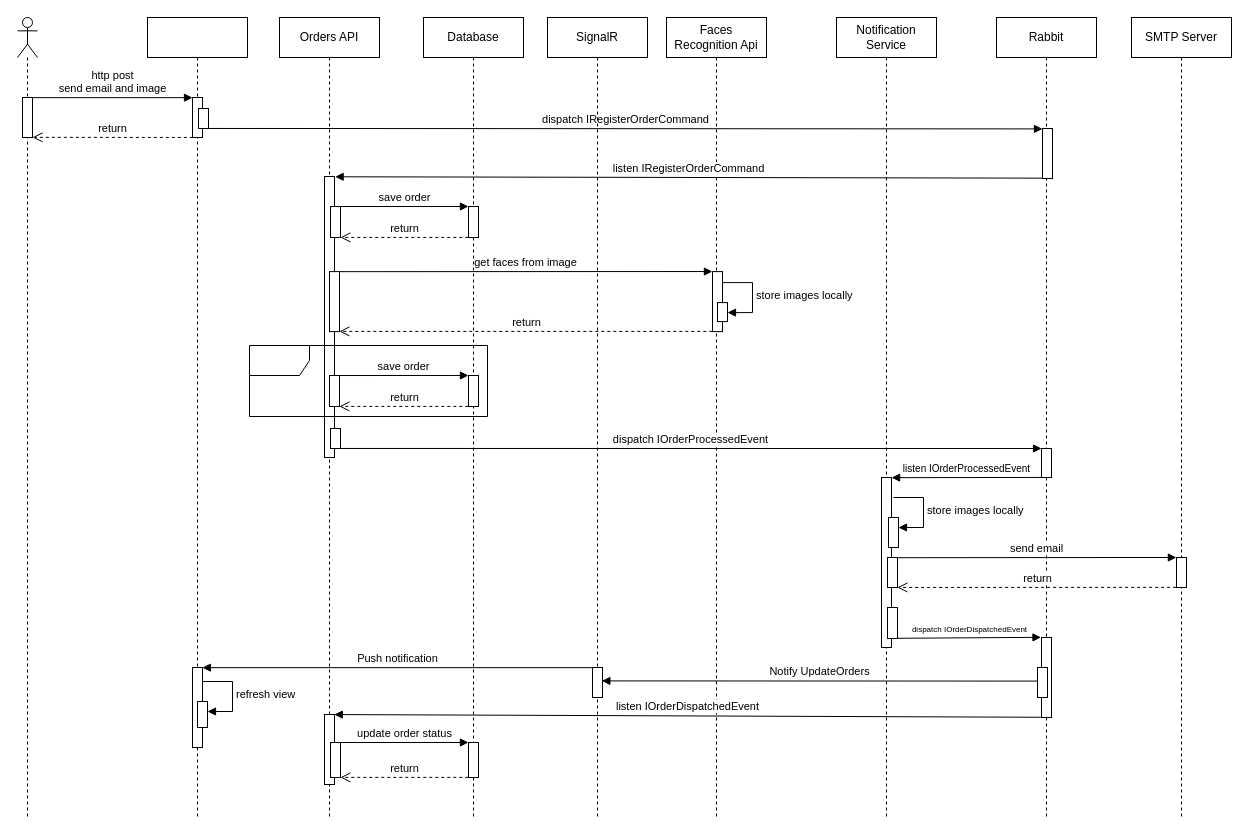
Image size: 1249x835. Some labels were removed from this diagram. The box of each missing label's shape, as (x1, y1, x2, y2) in pixels:
if faces detected: (248, 344, 488, 416)
Web Form: (146, 16, 248, 818)
